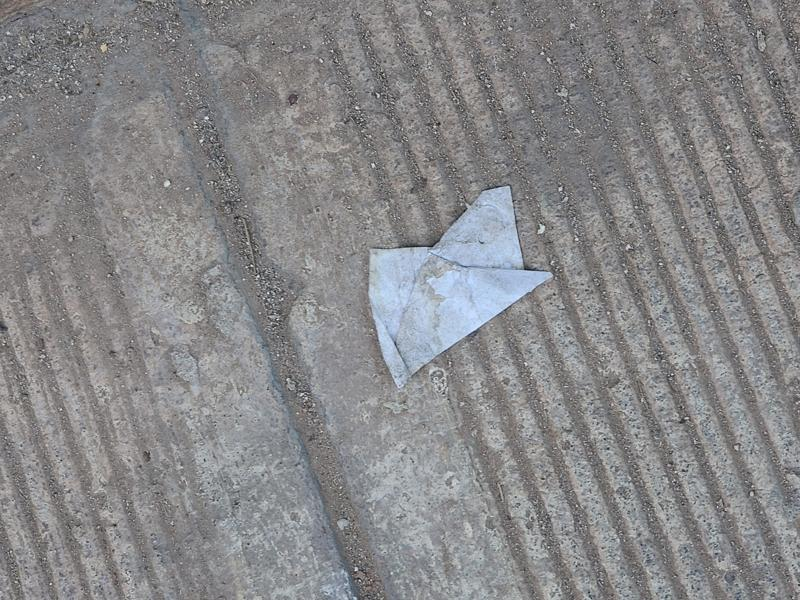papel: (367, 187, 551, 388)
